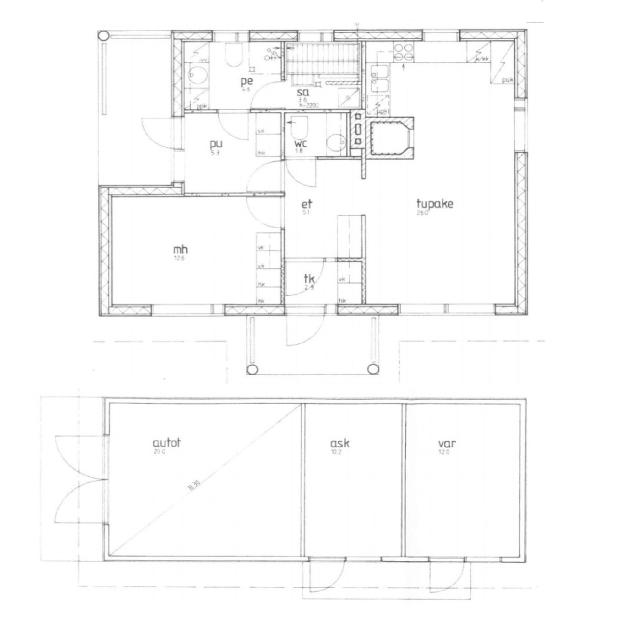door: (50, 479, 104, 526), (282, 302, 326, 348), (425, 554, 468, 596), (306, 554, 347, 594), (53, 433, 90, 477), (285, 258, 326, 297), (243, 193, 286, 230), (242, 159, 284, 194), (138, 114, 178, 150), (216, 106, 251, 142), (284, 156, 319, 190), (247, 80, 282, 110)
window: (399, 302, 502, 320), (508, 94, 532, 158), (145, 302, 219, 321), (442, 303, 498, 319), (419, 28, 462, 42)
zone: (308, 398, 530, 560), (105, 399, 306, 560), (100, 194, 280, 314), (363, 39, 521, 105), (179, 112, 280, 196), (177, 35, 284, 111), (282, 35, 360, 108), (282, 111, 358, 160), (366, 120, 414, 160)
